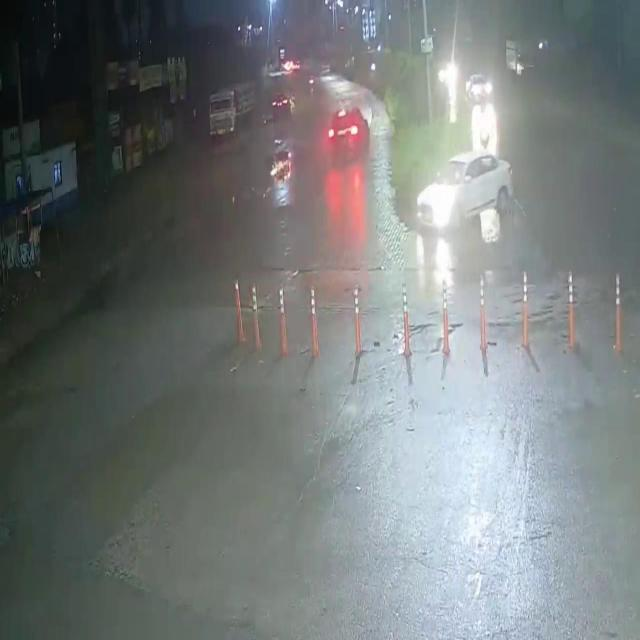accident: (261, 142, 295, 209)
